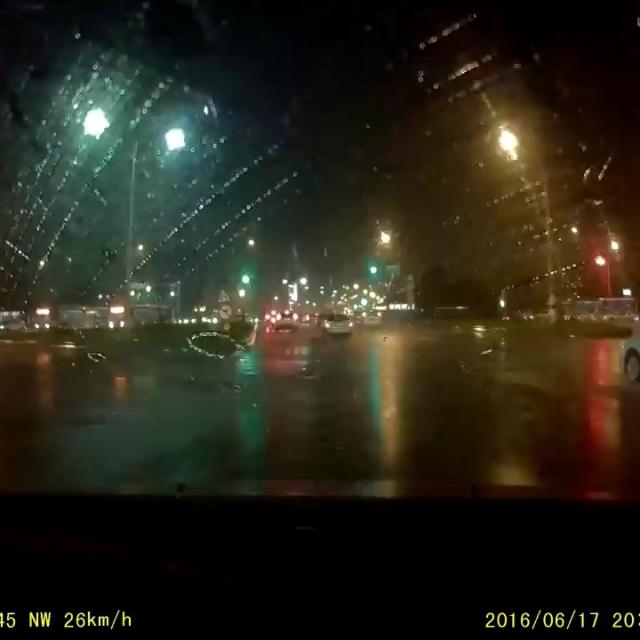Car: (270, 307, 300, 331), (319, 313, 351, 334), (358, 308, 383, 325)
